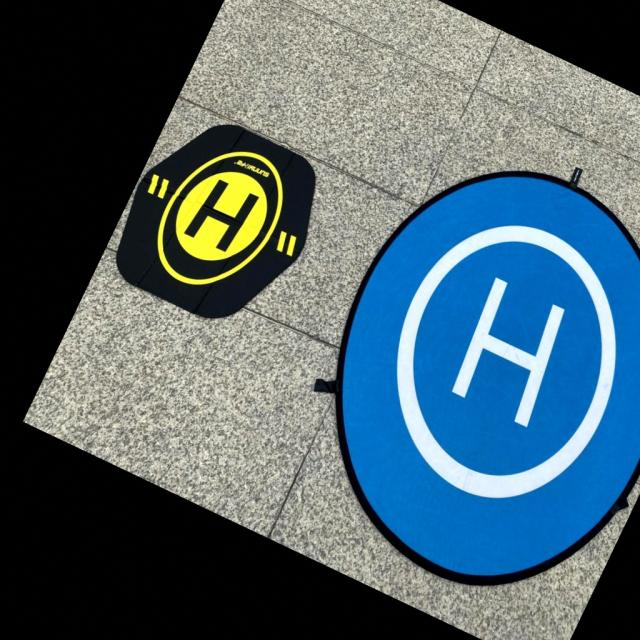helipad: (391, 220, 619, 506), (153, 147, 284, 288)
